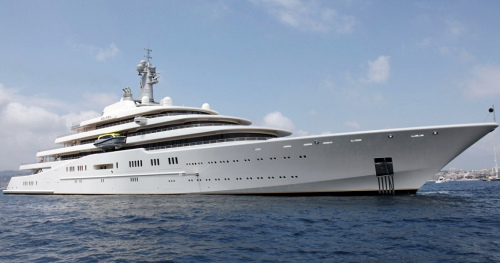yacht: (4, 45, 500, 197)
